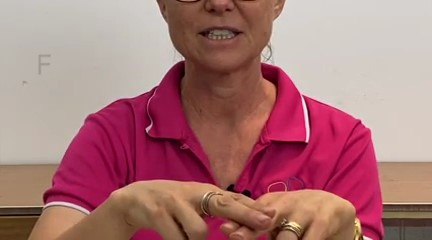F: (117, 172, 366, 240)
